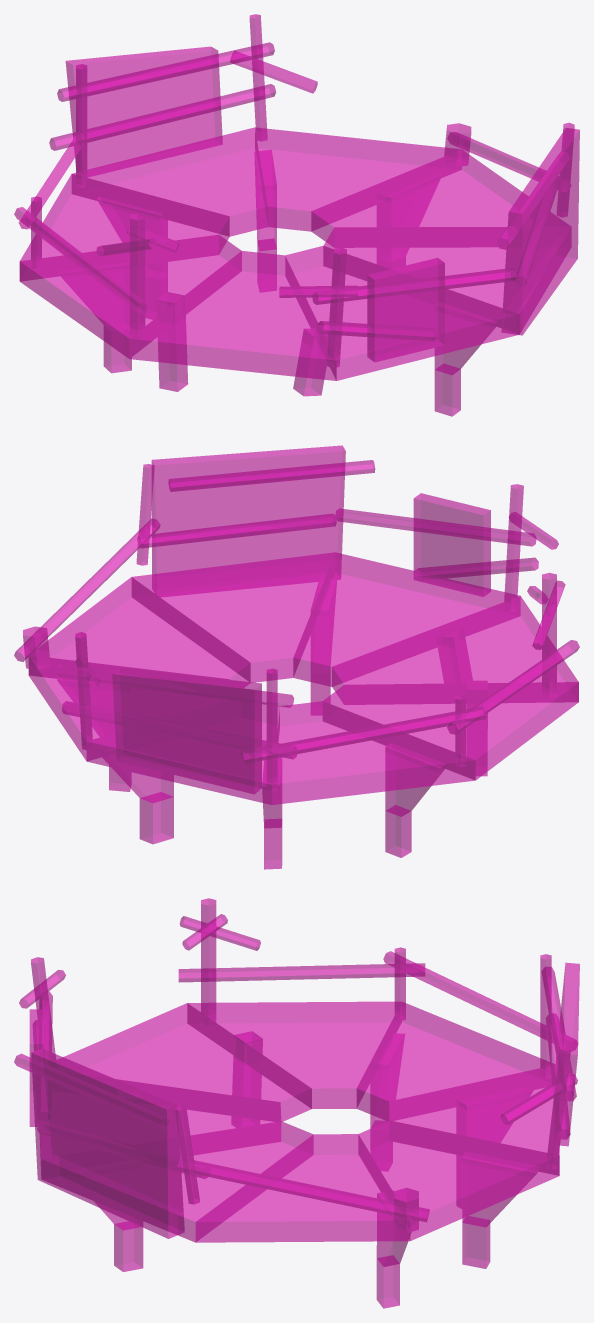
The model's file is SM_Bld_Tower_Roof_01_Collision.fbx.
3 renders of one model, top to bottom at view 1: azimuth 30°, elevation 25°; view 2: azimuth 150°, elevation 25°; view 3: azimuth 270°, elevation 25°, orthographic.
Visible parts, largest first — view 1: SM_Bld_Tower_Roof_01_Collision; view 2: SM_Bld_Tower_Roof_01_Collision; view 3: SM_Bld_Tower_Roof_01_Collision.
Part boxes in pixels (<box>): SM_Bld_Tower_Roof_01_Collision: <box>14,14,579,416</box>; SM_Bld_Tower_Roof_01_Collision: <box>14,445,579,869</box>; SM_Bld_Tower_Roof_01_Collision: <box>14,898,579,1308</box>.
Bounding box in the file's own units: 930 × 446 × 985.
